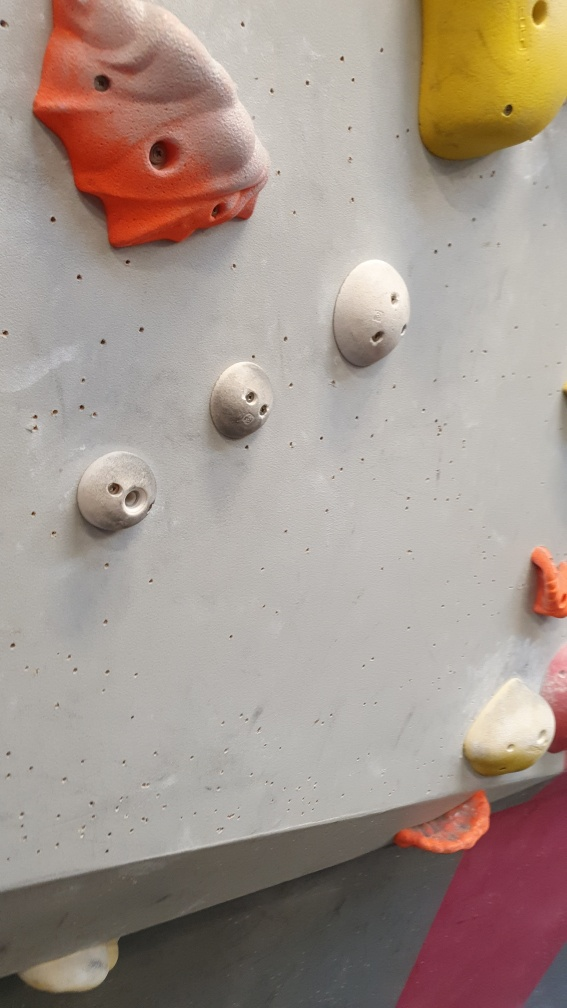Jug: (26, 1, 277, 256), (387, 791, 496, 857), (524, 544, 567, 623)
Sloper: (327, 259, 408, 375), (76, 446, 159, 536), (205, 357, 280, 445)
